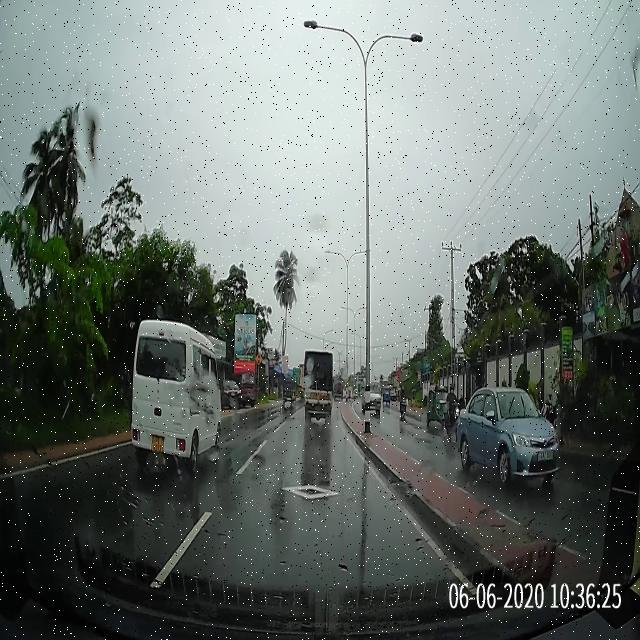diamond: (218, 474, 404, 508)
